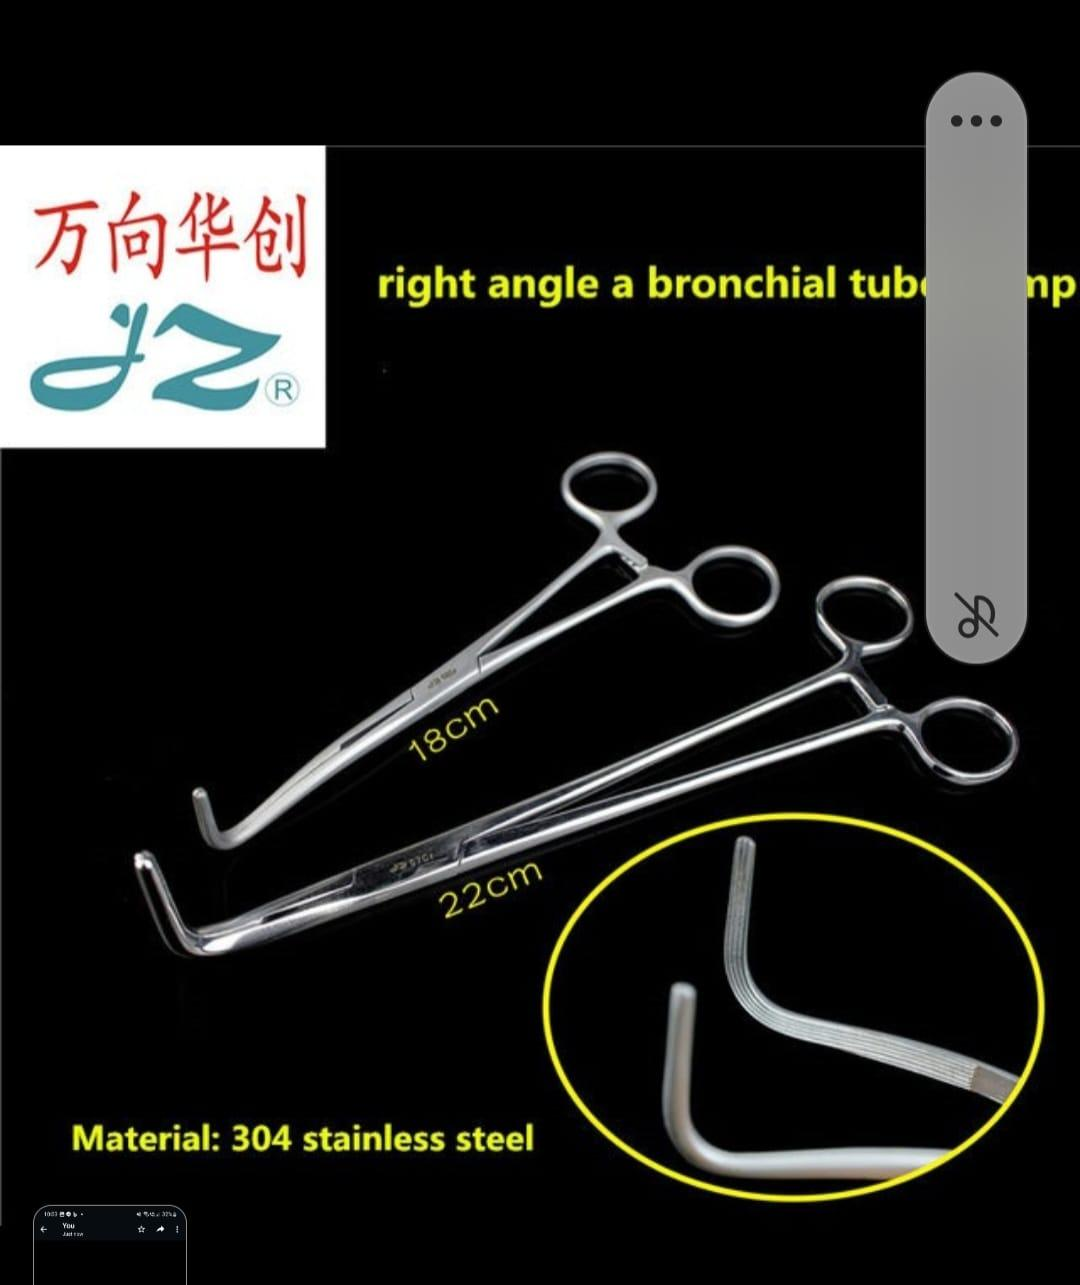Rectangle Cholecystectomy Forceps: (126, 564, 1026, 974), (186, 410, 790, 860)
